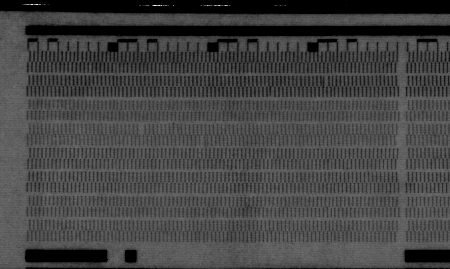Broken hole: (136, 123, 148, 137)
Oblique printing: (318, 74, 331, 88), (198, 135, 211, 147), (265, 87, 277, 98)
